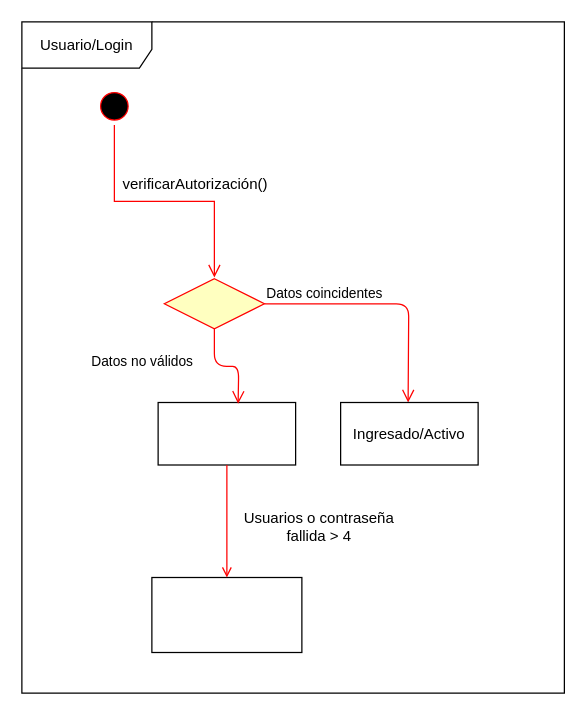
This 586x715 diagram has some shape labels left out. Each missing label, with the box of its shape:
Bloqueado: (151, 576, 302, 652)
Reintento: (157, 401, 296, 465)
